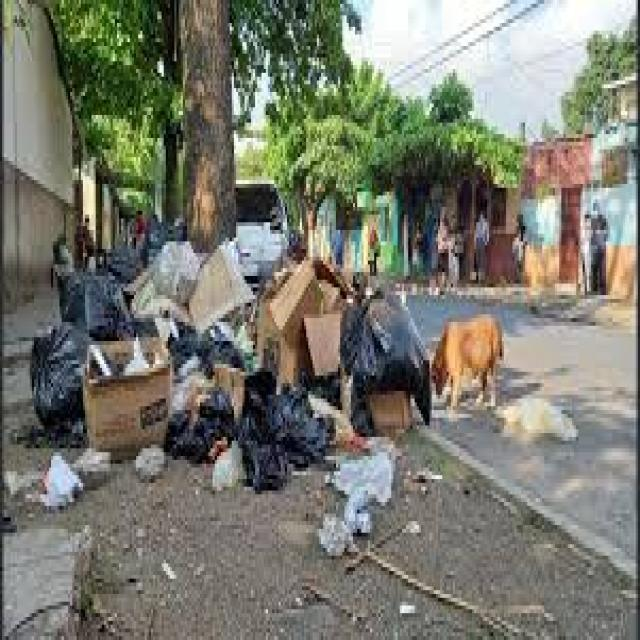high trash: (34, 234, 424, 546)
